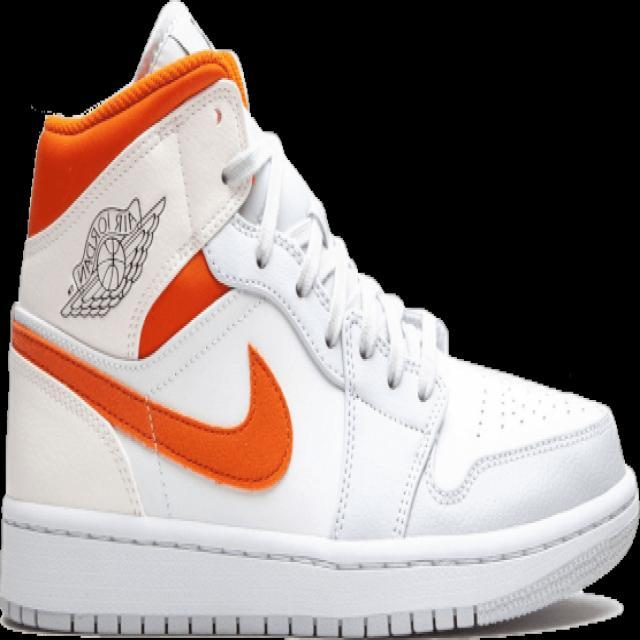J1_InsoleChar: (1, 1, 638, 638)
J1_ShoeLogo: (58, 193, 167, 319)
J1_StitchPattern: (247, 205, 449, 536), (2, 491, 637, 575), (275, 209, 447, 400), (324, 285, 449, 538), (8, 342, 146, 517), (428, 413, 613, 507), (9, 604, 484, 637), (334, 275, 445, 400), (329, 309, 361, 540)
